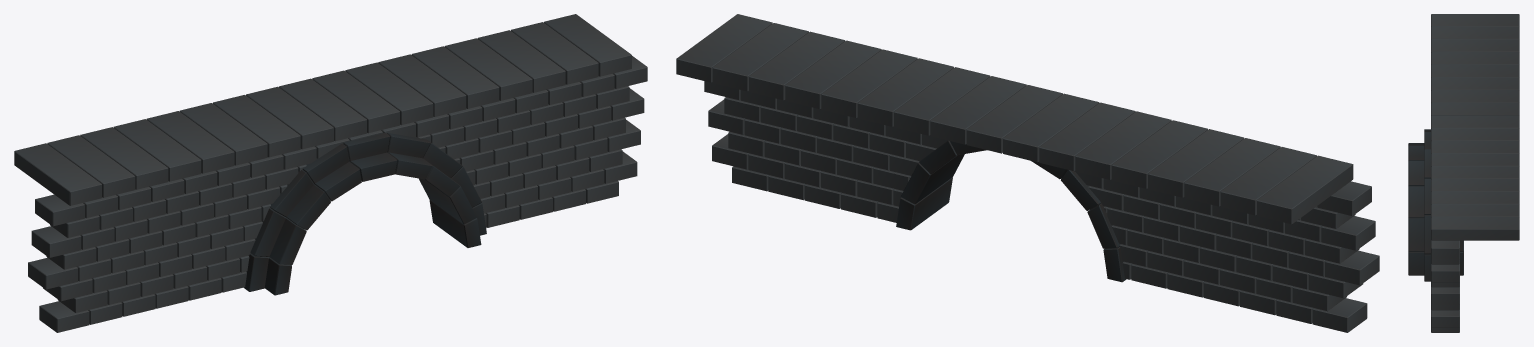
The model's file is Tunel.fbx.
3 renders of one model, left to right at view 1: azimuth 30°, elevation 25°; view 2: azimuth 150°, elevation 25°; view 3: azimuth 270°, elevation 25°, orthographic. The views are drawn at different scales.
Parts seen in each view (by area): view 1: Wall, Arch; view 2: Wall, Arch; view 3: Wall, Arch.
Boxes of the visible parts, x1,y1,x2,y2 form: Wall: (14, 14, 647, 332); Arch: (244, 132, 486, 295); Wall: (676, 14, 1379, 332); Arch: (896, 140, 1126, 282); Wall: (1431, 14, 1519, 332); Arch: (1408, 129, 1463, 281).
Bounding box in the file's own units: 2033 × 452 × 415.
